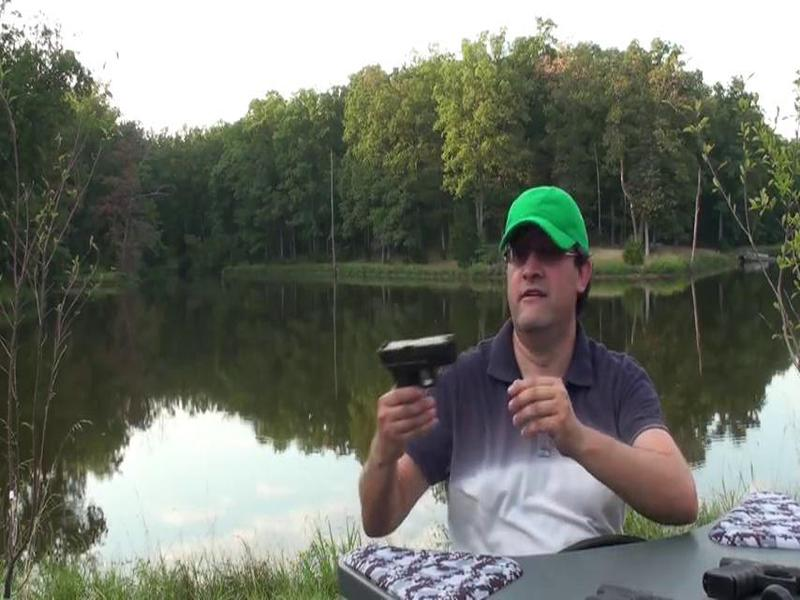Pistola: (364, 317, 477, 444)
